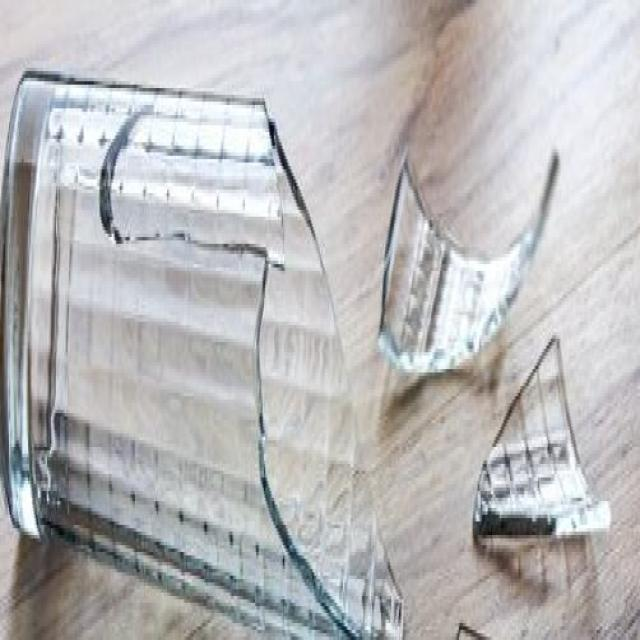electronic: (0, 63, 616, 640)
